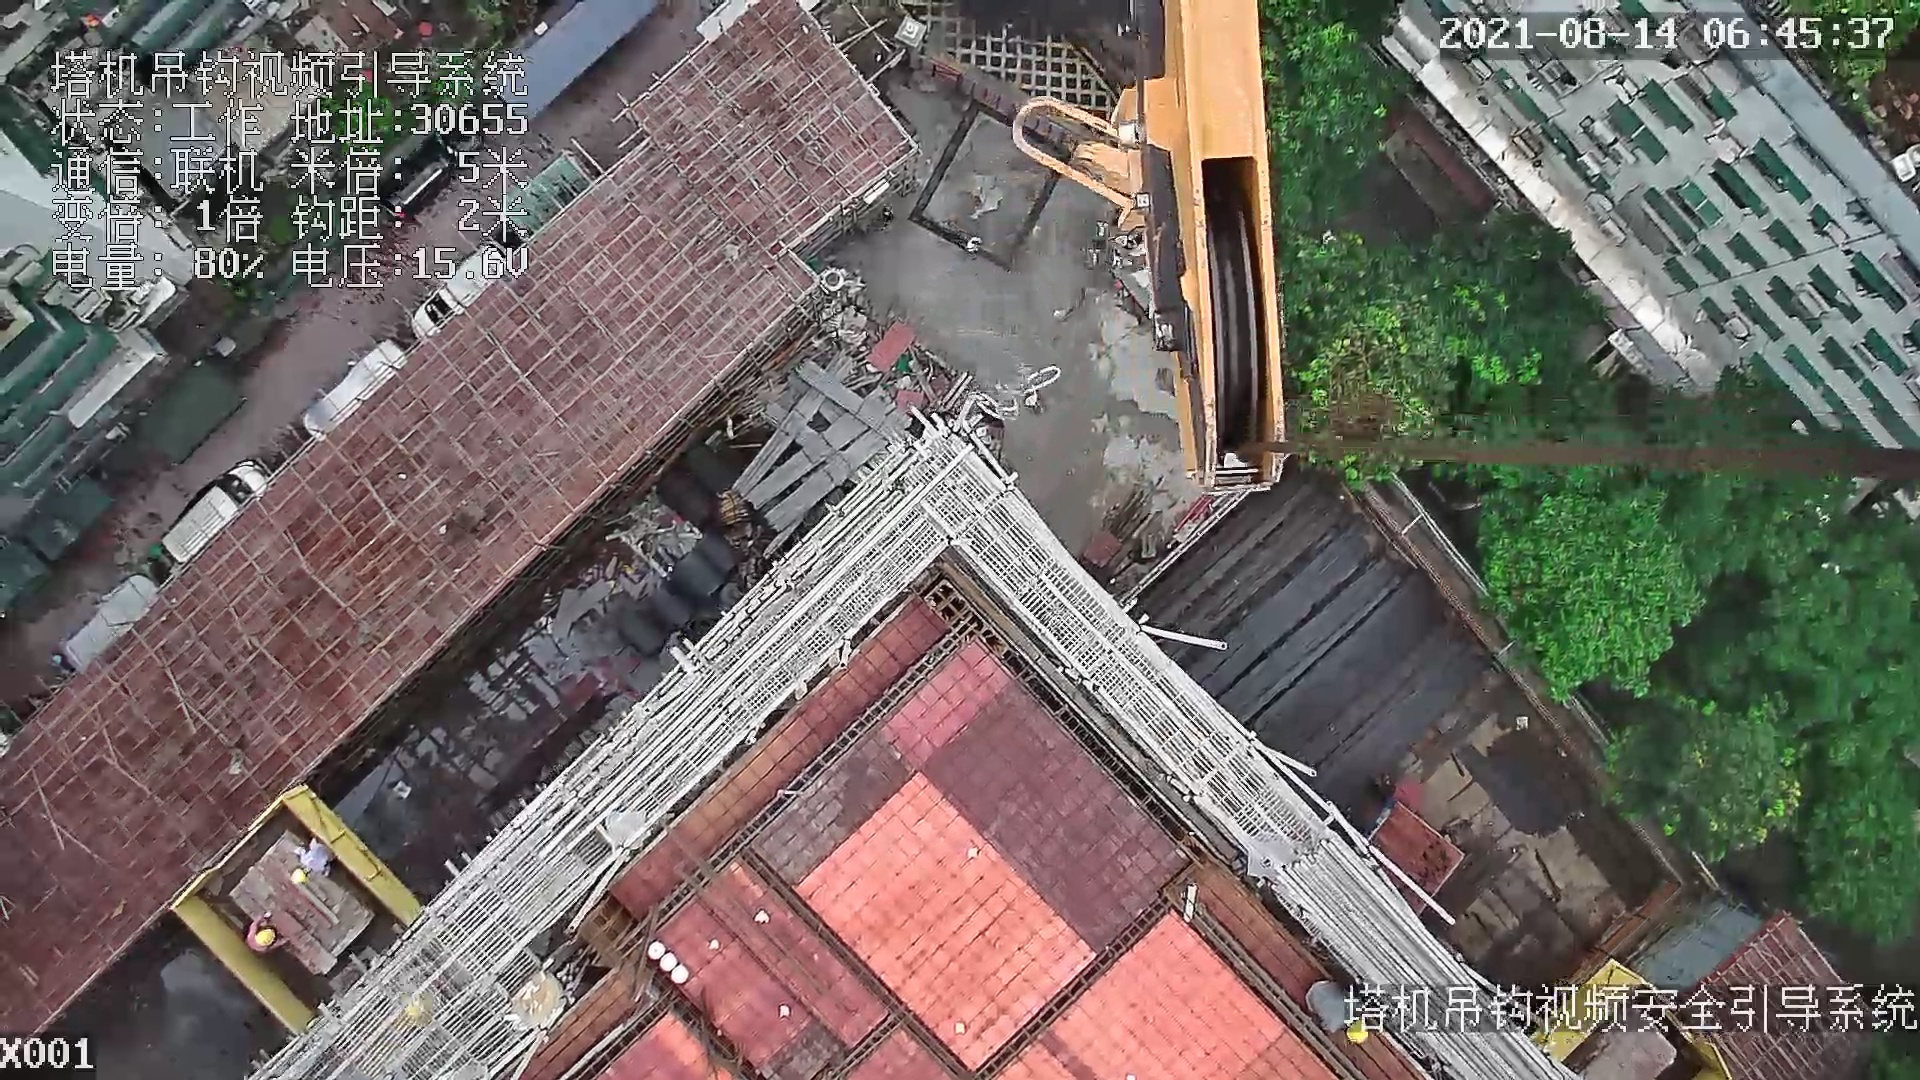helmet: (1344, 1019, 1370, 1045), (254, 928, 281, 948), (289, 863, 307, 885)
hook: (1009, 1, 1292, 503)
person: (1296, 977, 1381, 1047), (283, 833, 332, 883), (238, 909, 288, 951)
